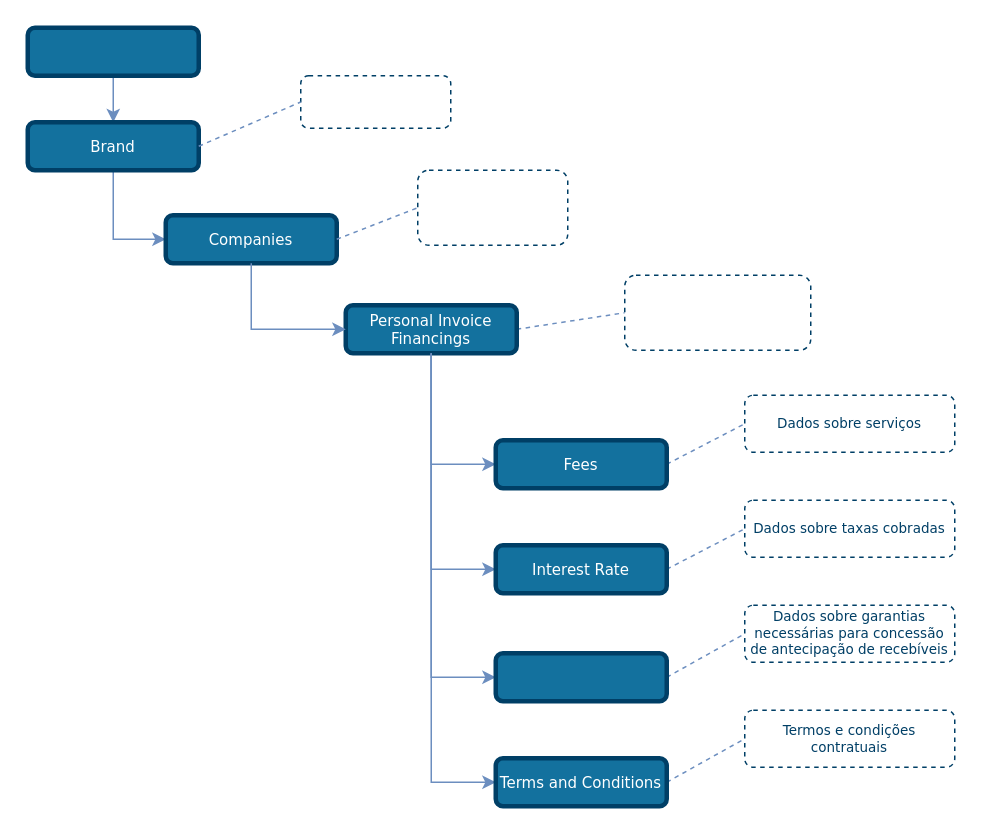
Some shapes in this 981 by 834 pixel diagram are drawn without their labels. Here are the shapes that lost their labels. From the top down, the centre of each, then its label:
At (112,51): "Open Banking".
At (375,101): "Dados Marca selecionada pelas Organizações".
At (492,207): "Conjunto de informações sobre a instituição financeira".
At (717,312): "Agrupador dos produtos de antecipação de recebíveis para pessoa natural".
At (580,676): "Required Warranties".
